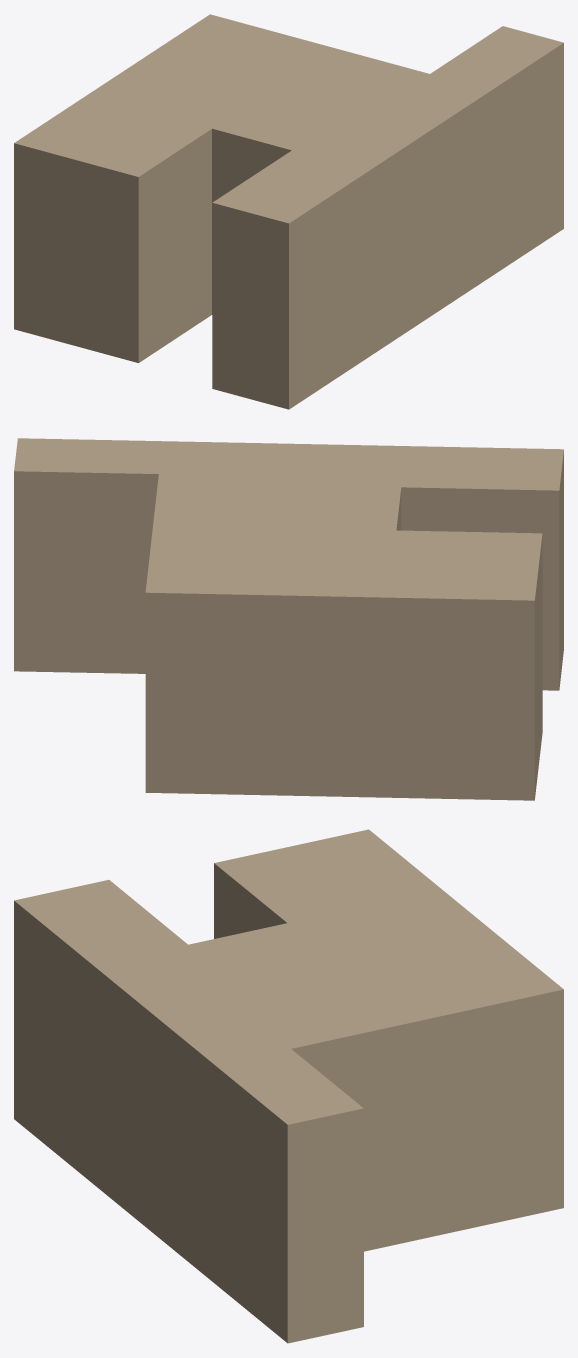
The model's file is bld_107639253.dae.
3 renders of one model, top to bottom at view 1: azimuth 30°, elevation 25°; view 2: azimuth 150°, elevation 25°; view 3: azimuth 270°, elevation 25°, orthographic. The views are drawn at different scales.
Visible parts, largest first — view 1: bld_107639253; view 2: bld_107639253; view 3: bld_107639253.
Part boxes in pixels (box(x1,y1,x2,y2)): bld_107639253: box(14, 14, 563, 409); bld_107639253: box(14, 438, 563, 800); bld_107639253: box(14, 829, 563, 1343).
Bounding box in the file's own units: 23.18 × 18.24 × 8.
